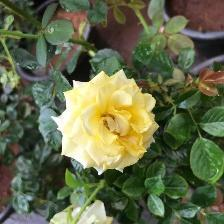rose: (53, 70, 161, 178)
